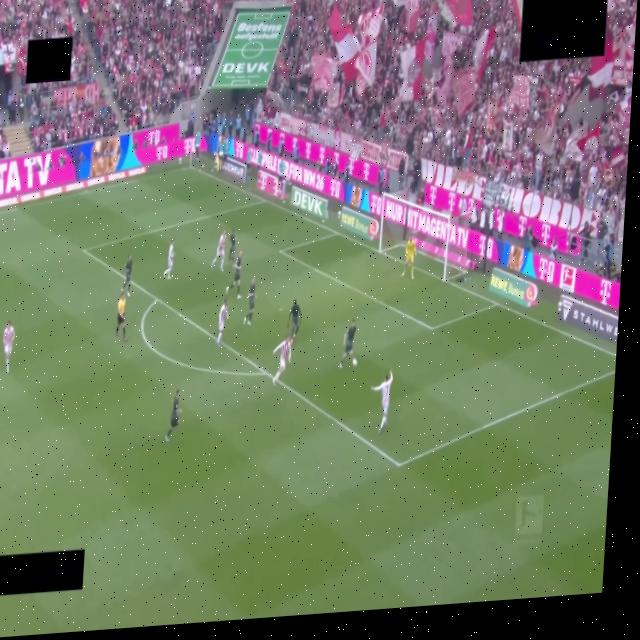ball: (353, 358, 357, 367)
player: (372, 371, 392, 433), (273, 337, 293, 385), (165, 389, 181, 441), (226, 250, 242, 299), (340, 319, 356, 367), (3, 321, 15, 373), (402, 236, 416, 279), (211, 231, 226, 270), (244, 278, 255, 325), (217, 299, 228, 346), (287, 300, 301, 336), (122, 254, 132, 295), (164, 240, 174, 279), (229, 230, 236, 265)
referee: (116, 292, 126, 341)
